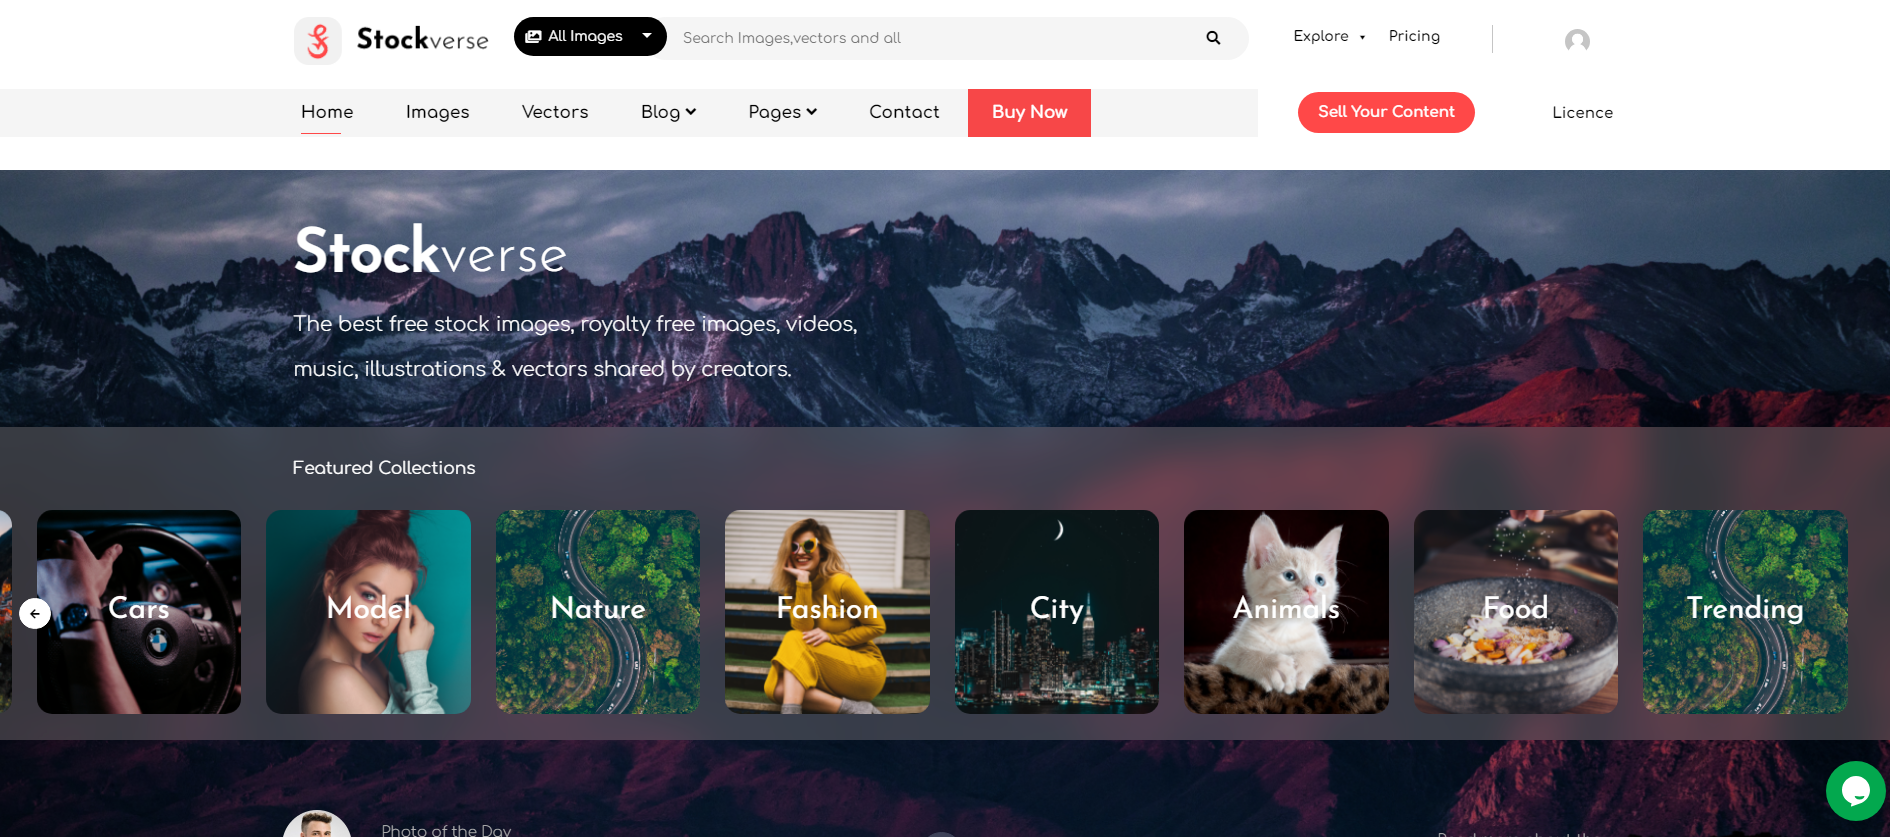menu: (37, 7, 1868, 213)
